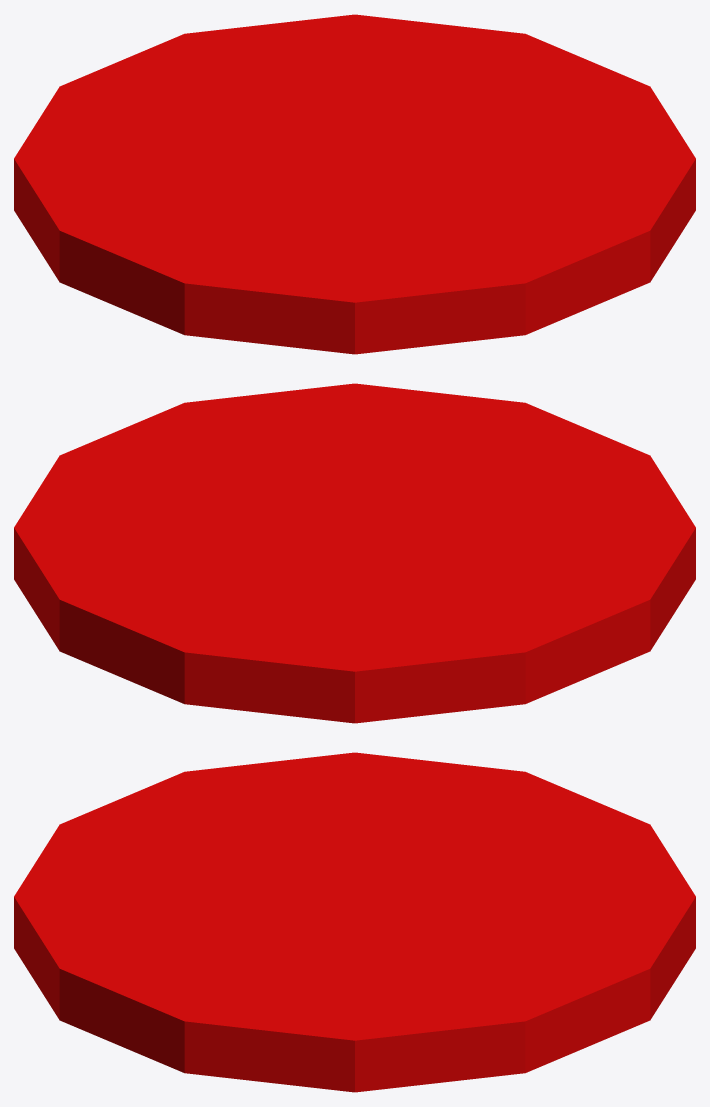
3 views of the same model, one above another, from view 1: azimuth 30°, elevation 25°; view 2: azimuth 150°, elevation 25°; view 3: azimuth 270°, elevation 25° (orthographic).
Visible parts, largest first — view 1: pCylinder1; view 2: pCylinder1; view 3: pCylinder1.
Part boxes in pixels (x1,y1,x2,y2): pCylinder1: (14,14,695,354); pCylinder1: (14,383,695,723); pCylinder1: (14,752,695,1092).
Size of the model in its own units: 2 by 0.1676 by 2.
